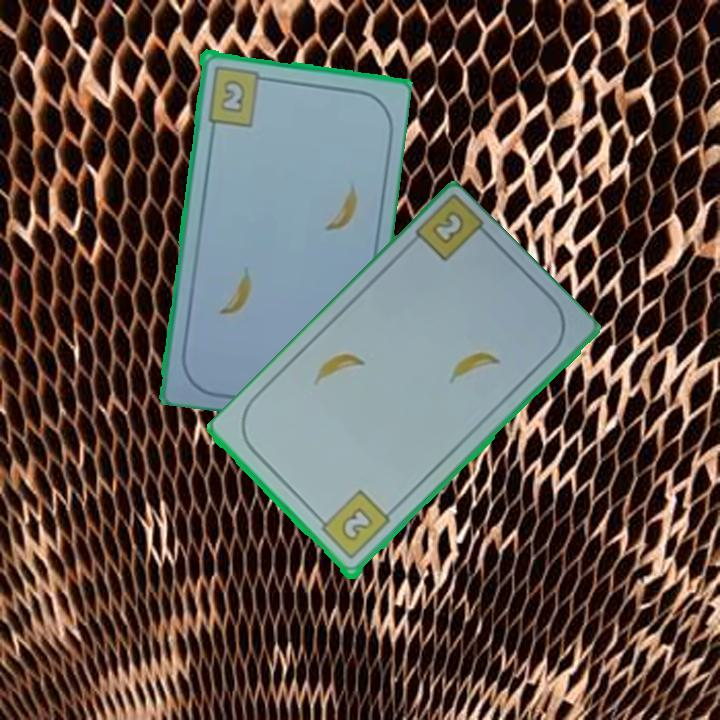2b: (313, 487, 393, 563), (203, 62, 271, 128), (428, 208, 468, 248)
